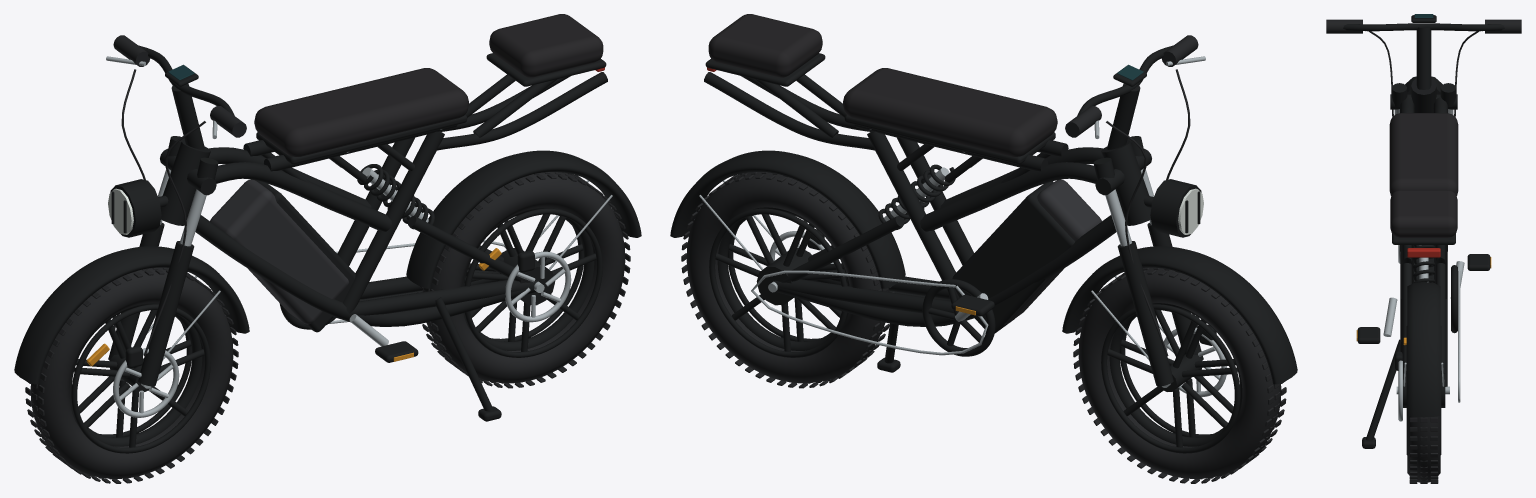
Rendered from v20-brake-pro-estudo.glb.
3 views of the same model, side by side, from view 1: azimuth 30°, elevation 25°; view 2: azimuth 150°, elevation 25°; view 3: azimuth 270°, elevation 25° (orthographic). The views are drawn at different scales.
Parts seen in each view (by area): view 1: Pneu largo (×2), Paralama (×2), Banco principal, Bateria removível, Borda do aro (×4), Banco traseiro, Quadro inferior, Tubo do selim (×2), Longarina superior (×2), Aro (×2), Balança traseira (×2), Garfo inferior (×2) (+19 smaller); view 2: Pneu largo (×2), Paralama (×2), Banco principal, Trilho da bateria, Borda do aro (×4), Banco traseiro, Longarina superior (×2), Aro (×2), Tubo do selim (×2), Quadro inferior, Garfo inferior (×2), Balança traseira (×2) (+19 smaller); view 3: Banco principal, Paralama, Banco traseiro, Pneu largo, Triângulo traseiro (×2), Guidão, Avanço, Manopla (×2), Pedal (×2), Descanso lateral, Caixa de direção, Mesa superior (×2) (+11 smaller).
Boxes of the visible parts, x1,y1,x2,y2 form: Pneu largo (×2): (30, 172, 625, 478); Paralama (×2): (14, 150, 641, 384); Banco principal: (254, 68, 468, 156); Bateria removível: (210, 179, 348, 324); Borda do aro (×4): (71, 208, 602, 453); Banco traseiro: (489, 14, 603, 77); Quadro inferior: (182, 215, 537, 326); Tubo do selim (×2): (337, 131, 444, 313); Longarina superior (×2): (208, 147, 391, 231); Aro (×2): (69, 207, 594, 446); Balança traseira (×2): (348, 269, 537, 317); Garfo inferior (×2): (108, 222, 194, 386); Pneu largo (×2): (686, 172, 1281, 478); Paralama (×2): (670, 150, 1297, 384); Banco principal: (843, 68, 1057, 156); Trilho da bateria: (952, 181, 1075, 333); Borda do aro (×4): (709, 208, 1240, 453); Banco traseiro: (708, 14, 822, 77); Longarina superior (×2): (920, 147, 1103, 231); Aro (×2): (717, 207, 1242, 446); Tubo do selim (×2): (867, 131, 973, 299); Quadro inferior: (774, 215, 1129, 326); Garfo inferior (×2): (1117, 222, 1203, 386); Balança traseira (×2): (774, 269, 953, 313); Banco principal: (1389, 113, 1458, 195); Paralama: (1407, 281, 1440, 416); Banco traseiro: (1390, 190, 1457, 237); Pneu largo: (1407, 416, 1440, 483); Triângulo traseiro (×2): (1402, 263, 1445, 383); Guidão: (1343, 23, 1504, 31); Avanço: (1416, 27, 1431, 89); Manopla (×2): (1326, 19, 1521, 33); Pedal (×2): (1357, 254, 1490, 343); Descanso lateral: (1366, 339, 1401, 440); Caixa de direção: (1411, 78, 1436, 112); Mesa superior (×2): (1392, 83, 1455, 107).
Bounding box in the file's own units: 1.92 × 1.17 × 0.64.
